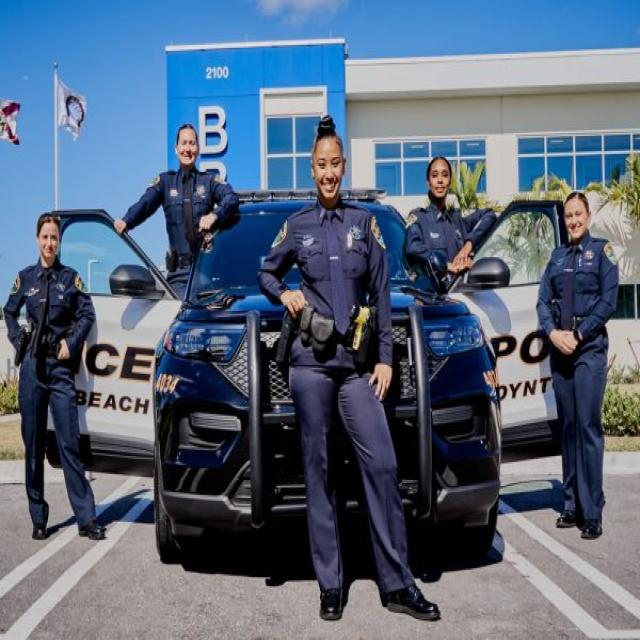police: (256, 108, 442, 620), (530, 162, 626, 565), (3, 198, 106, 560), (117, 113, 240, 336), (400, 127, 506, 284)
